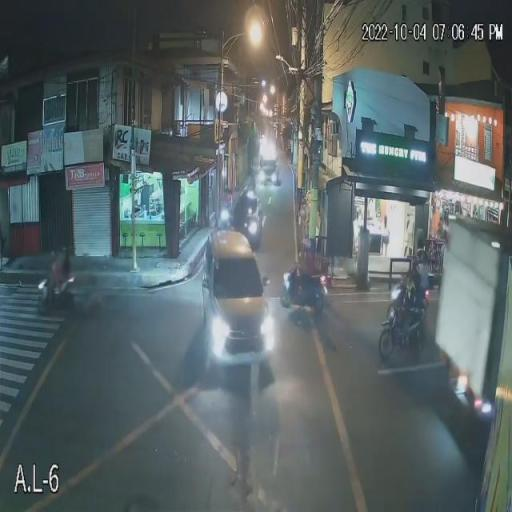helmet: (406, 258, 416, 268), (56, 248, 66, 258), (294, 262, 303, 271)
motorcycle: (377, 262, 431, 362), (279, 262, 329, 324), (36, 253, 81, 317), (240, 190, 264, 250), (214, 190, 237, 233)
rider: (391, 264, 422, 321), (286, 256, 310, 305), (49, 249, 72, 296), (242, 187, 259, 218), (218, 190, 234, 220)
